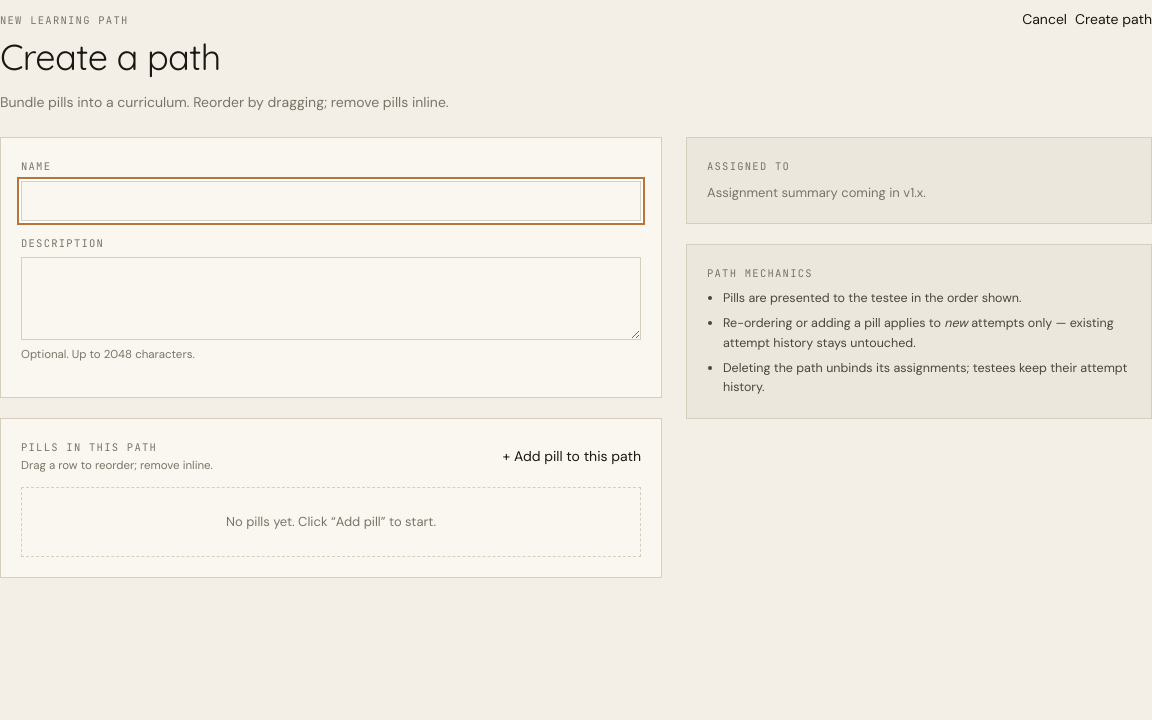
path editor — cancel + dirty-confirm (drift Finding #11) › opens the Modal-based confirm dialog when the form is dirty
In the field with test id "path-editor-name": (331, 200) [21,180,641,220], type "Dirty"
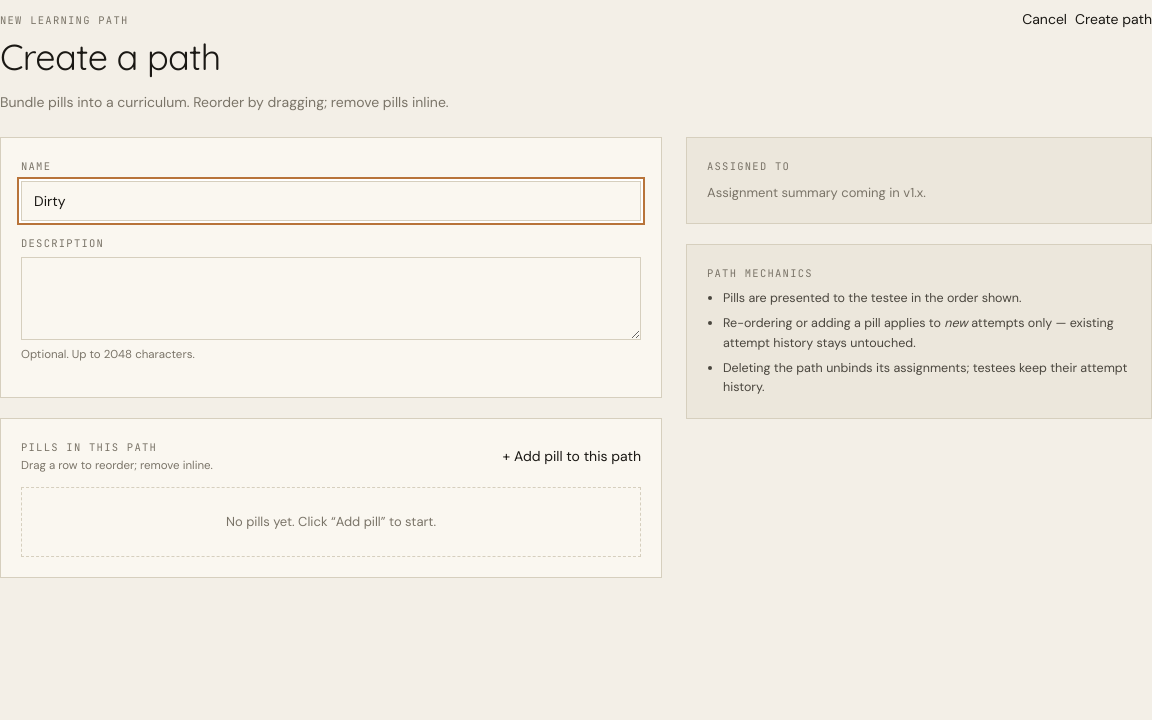
Click the button with test id "path-editor-cancel": (1045, 20) [1022,0,1067,40]
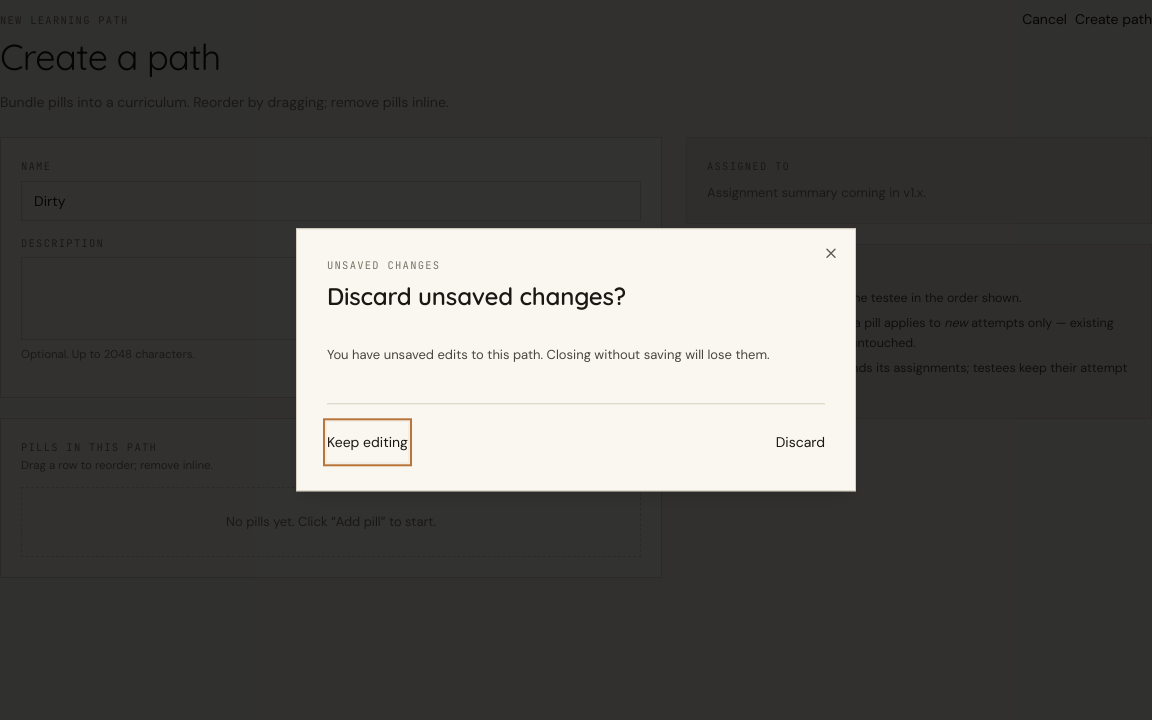
Now the button with test id "path-editor-discard-confirm" is shown, box [776,423,825,463]
